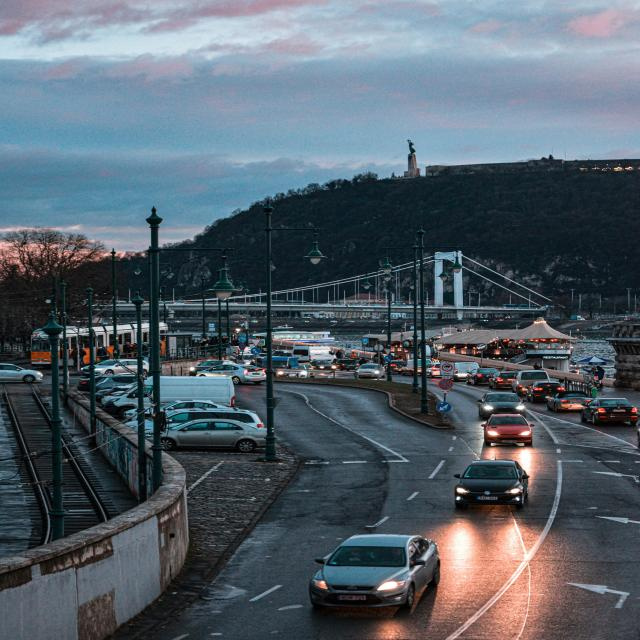Bus: (30, 321, 168, 368)
Car: (308, 534, 440, 616), (159, 418, 276, 453), (454, 459, 530, 508), (480, 413, 535, 446), (580, 398, 639, 426), (196, 364, 266, 384), (477, 392, 527, 419), (78, 373, 144, 392), (80, 358, 149, 376), (546, 391, 594, 412), (0, 363, 44, 383), (527, 381, 565, 403), (189, 359, 236, 376), (466, 367, 498, 385), (489, 371, 517, 389), (354, 363, 385, 379), (384, 361, 406, 374)
